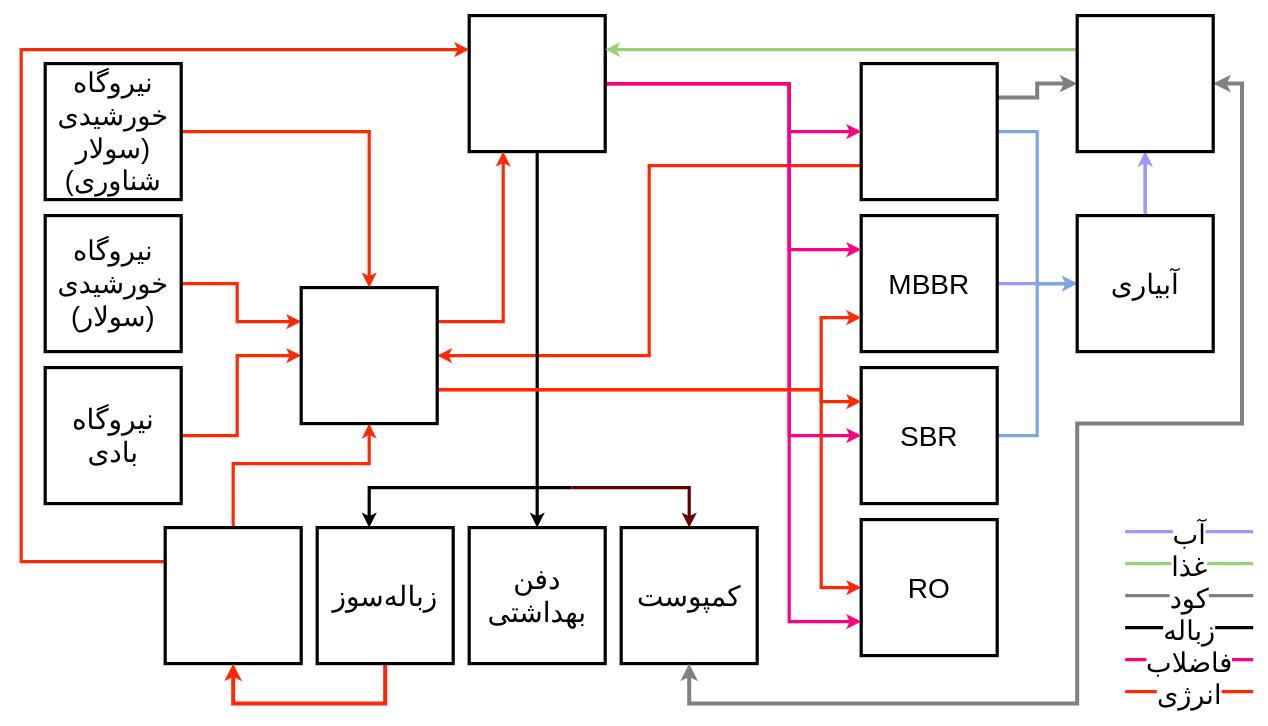
Image size: 1268x726. Some labels were removed from this diagram. Each missing label, with the centre of its shape:
"CHP" belongs at (x=232, y=595).
"شبکه توزیع برق" belongs at (x=368, y=355).
"محصولات کشاورزی" belongs at (x=1144, y=83).
"مصرف خانگی" belongs at (x=536, y=83).
"هاضم" belongs at (x=928, y=131).
